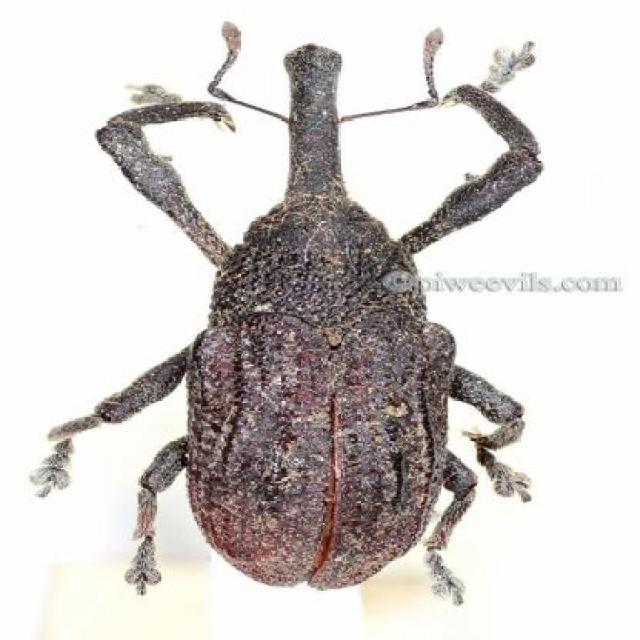rice-bug: (75, 83, 551, 597)
